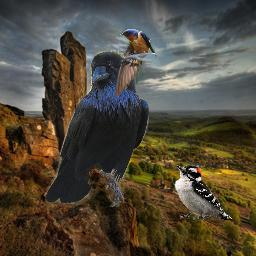Crow: (46, 50, 149, 207)
Swallow: (114, 28, 157, 97)
Woodpecker: (174, 165, 232, 220)
